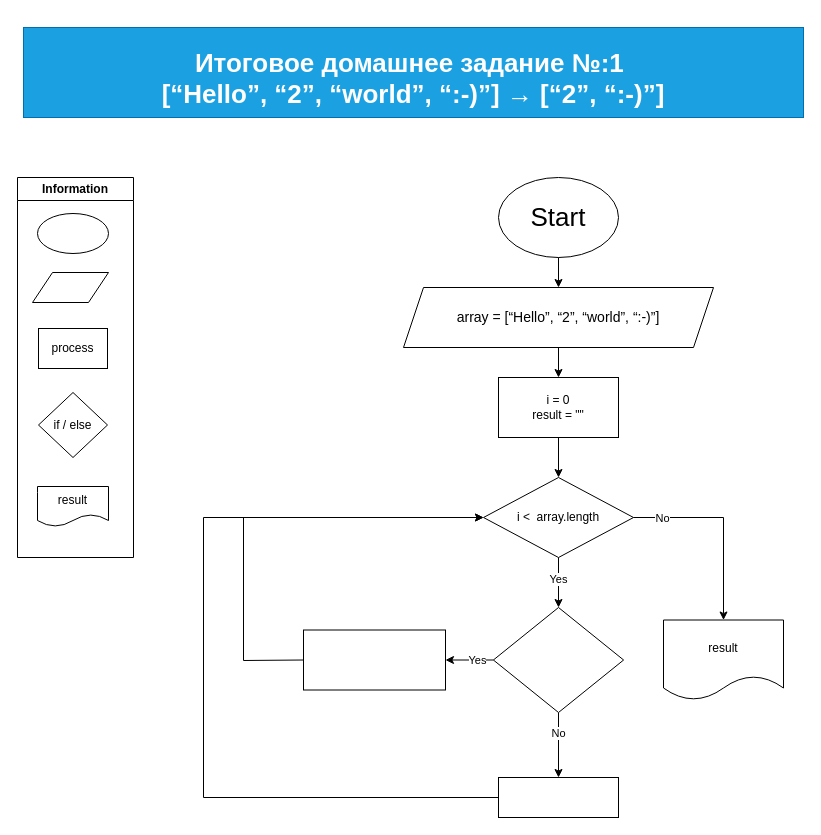
Some shapes in this 821 by 835 pixel diagram are drawn without their labels. Each missing label, with the centre of its shape:
array[i] != text: the point at 558,659
data input: the point at 70,287
i = i + 1: the point at 558,797
result = result + array[i] i = i + 1: the point at 374,659
start / end: the point at 72,233
